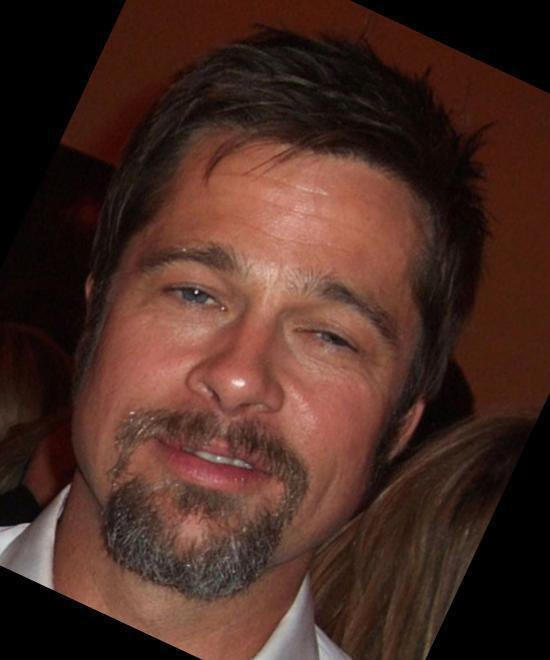Drunk: (118, 133, 372, 542)
